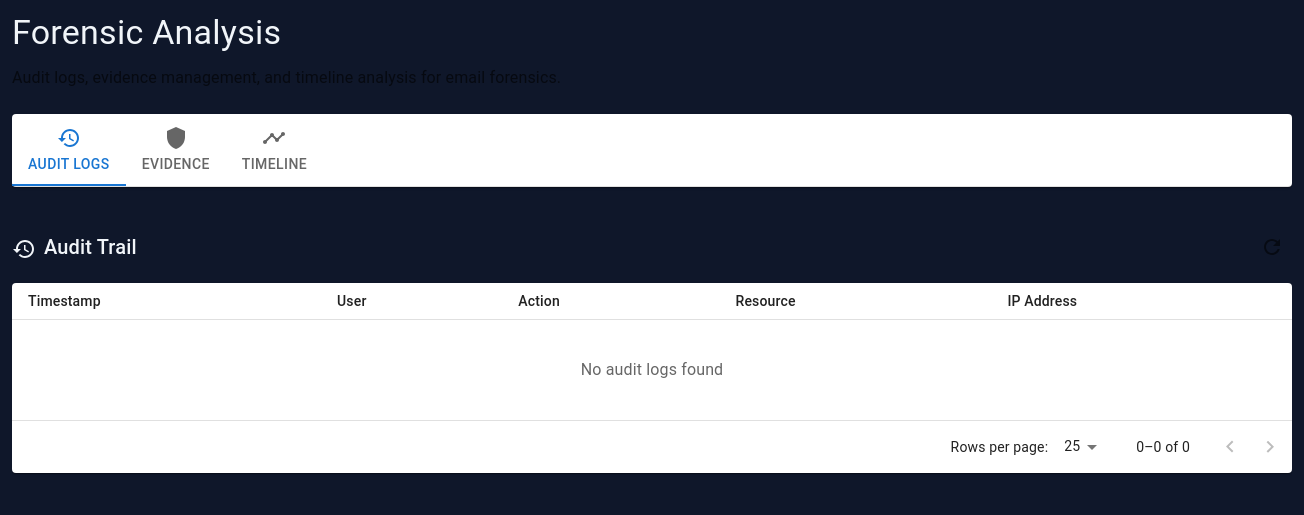
Scenario: Evidence Tab › displays evidence files
The width and height of the screenshot is (1304, 515).
Note: Switch to Evidence tab
What coordinates should you click on to do the following:
click the tab "Evidence"
I would click on:
 (176, 150)
Its box is [126, 114, 226, 186].
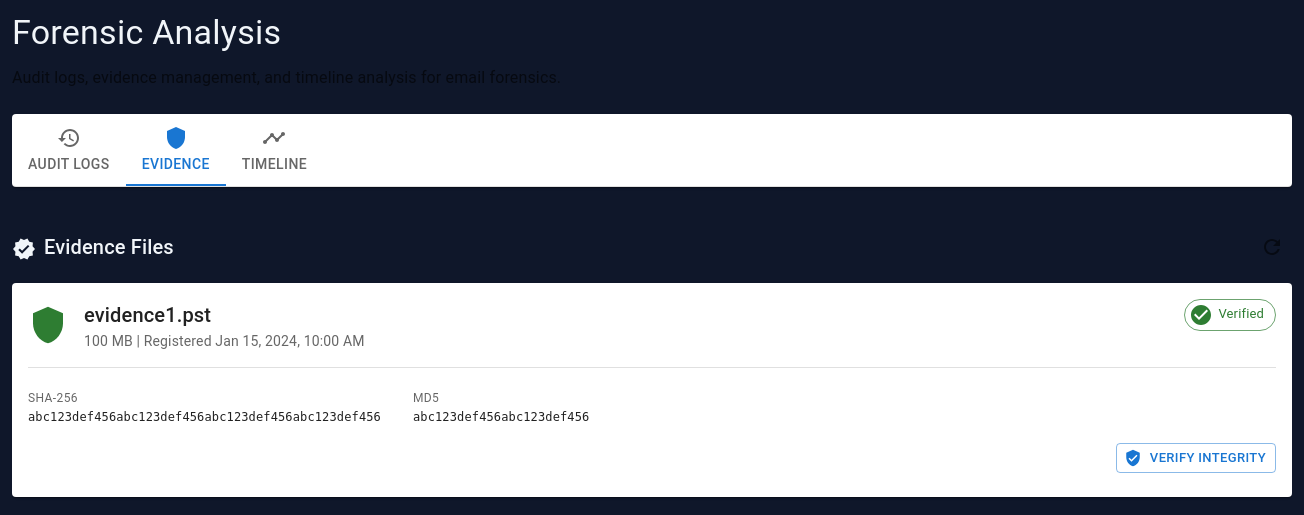
Result: the heading "evidence1.pst" is shown at [84, 303, 211, 327]
